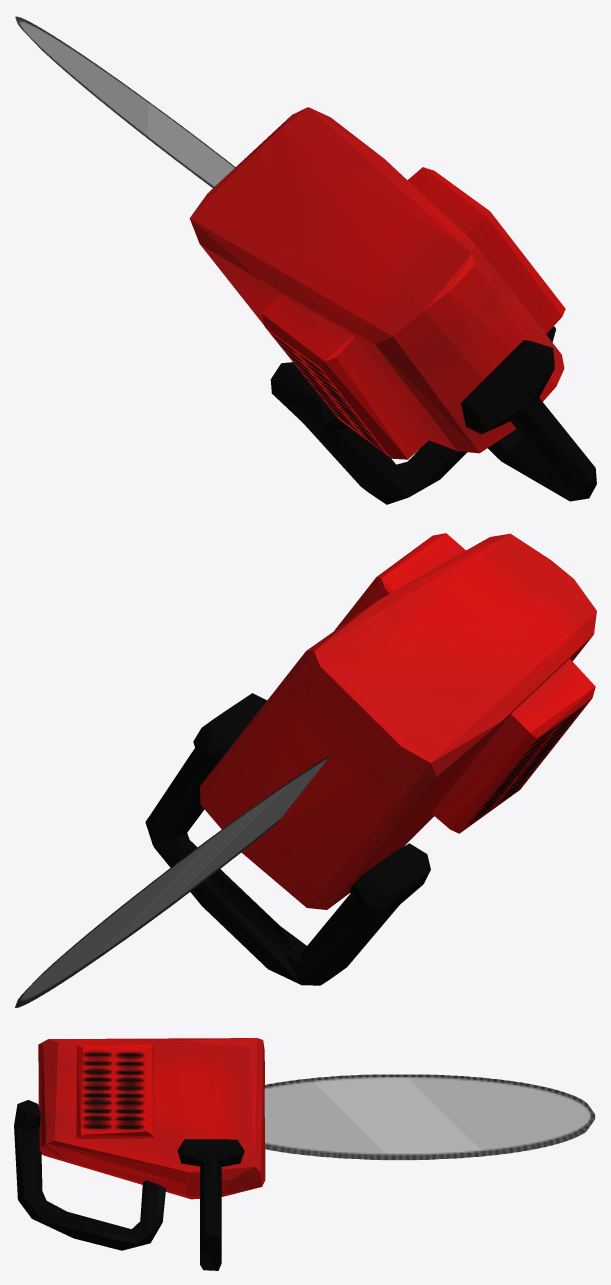
Rendered from chainsaw.fbx.
The picture shows the model from 3 angles, top to bottom: view 1: azimuth 30°, elevation 25°; view 2: azimuth 150°, elevation 25°; view 3: azimuth 270°, elevation 25°; orthographic projection. The views are drawn at different scales.
Parts seen in each view (by area): view 1: Cube; view 2: Cube; view 3: Cube.
Boxes of the visible parts, left/top/right/bottom form: Cube: left=15, top=16, right=596, bottom=504; Cube: left=15, top=533, right=596, bottom=1007; Cube: left=14, top=1038, right=595, bottom=1270.
Size of the model in its own units: 0.3444 by 0.3686 by 0.8932.
